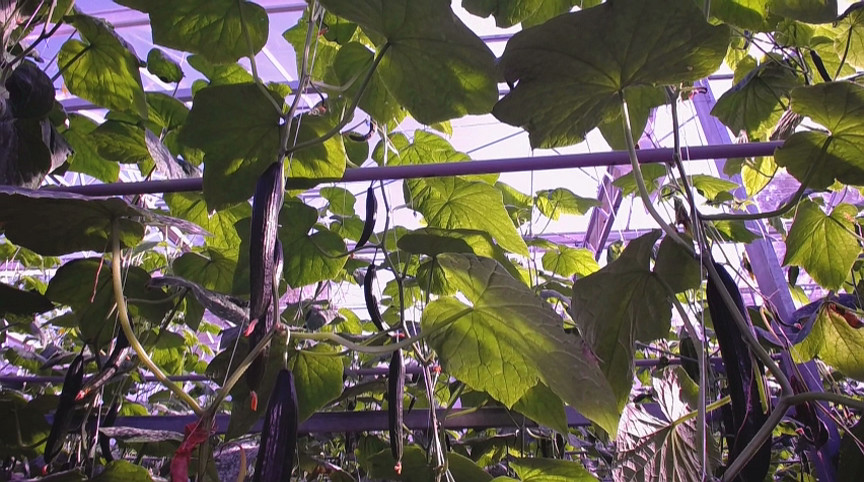cucumber: (706, 265, 769, 476), (251, 162, 285, 319), (255, 370, 300, 482), (45, 355, 86, 465), (362, 265, 397, 336), (388, 347, 407, 462), (356, 189, 380, 251)
